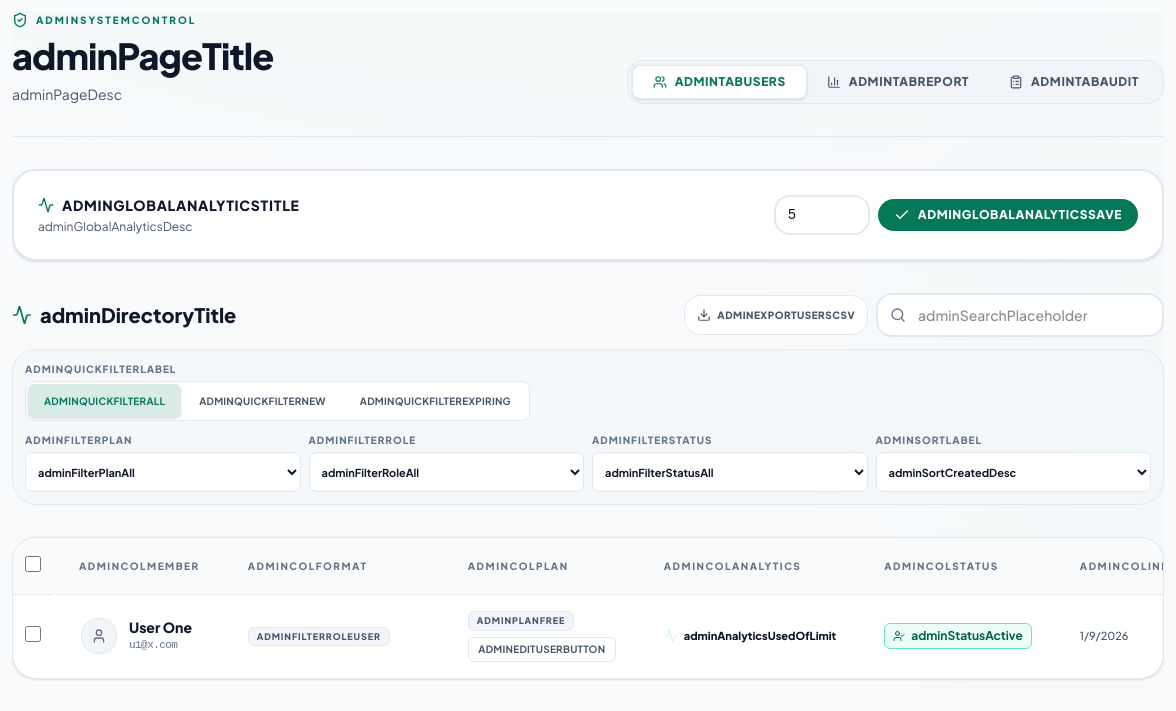
Scenario: AdminView › removes a single filter from its chip without touching the others
Select "adminFilterPlanPro" in the dropdown labelled "adminFilterPlan" at point(163, 472), box [25,452,300,492]
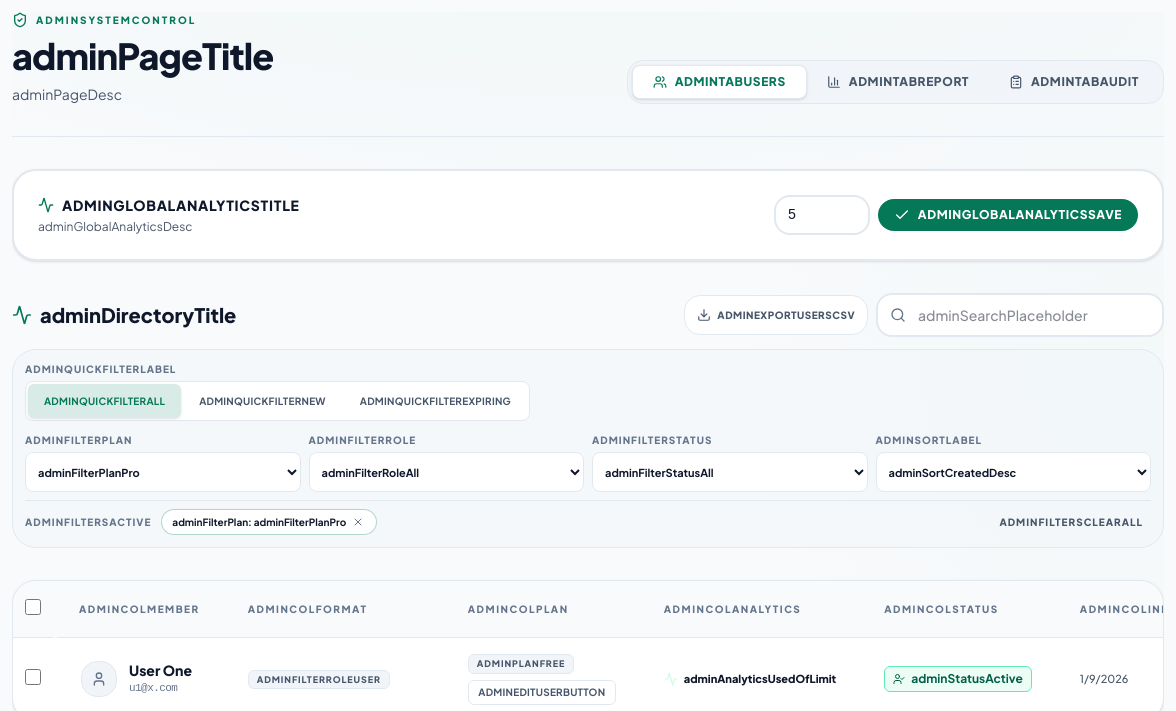
Select "adminFilterStatusLocked" in the dropdown labelled "adminFilterStatus" at point(730, 472), box [592,452,868,492]
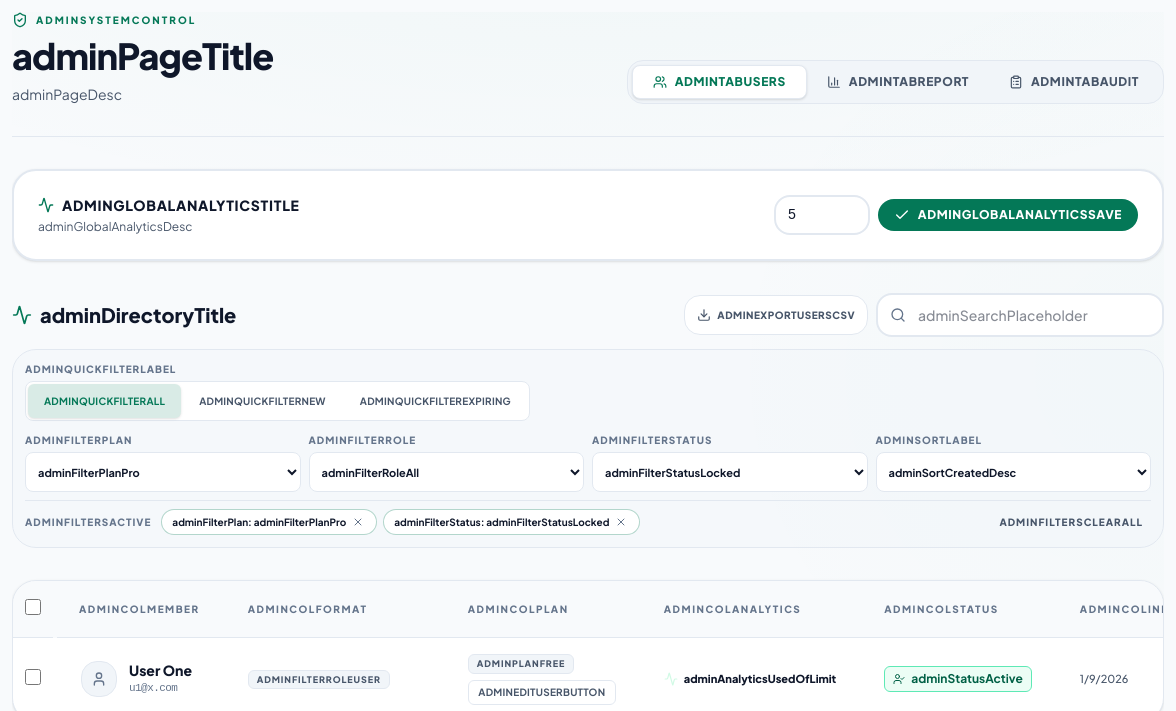
Click the button named "adminFiltersRemove" next to "adminFilterPlan: adminFilterPlanPro" at point(358, 522), box [350,514,366,530]
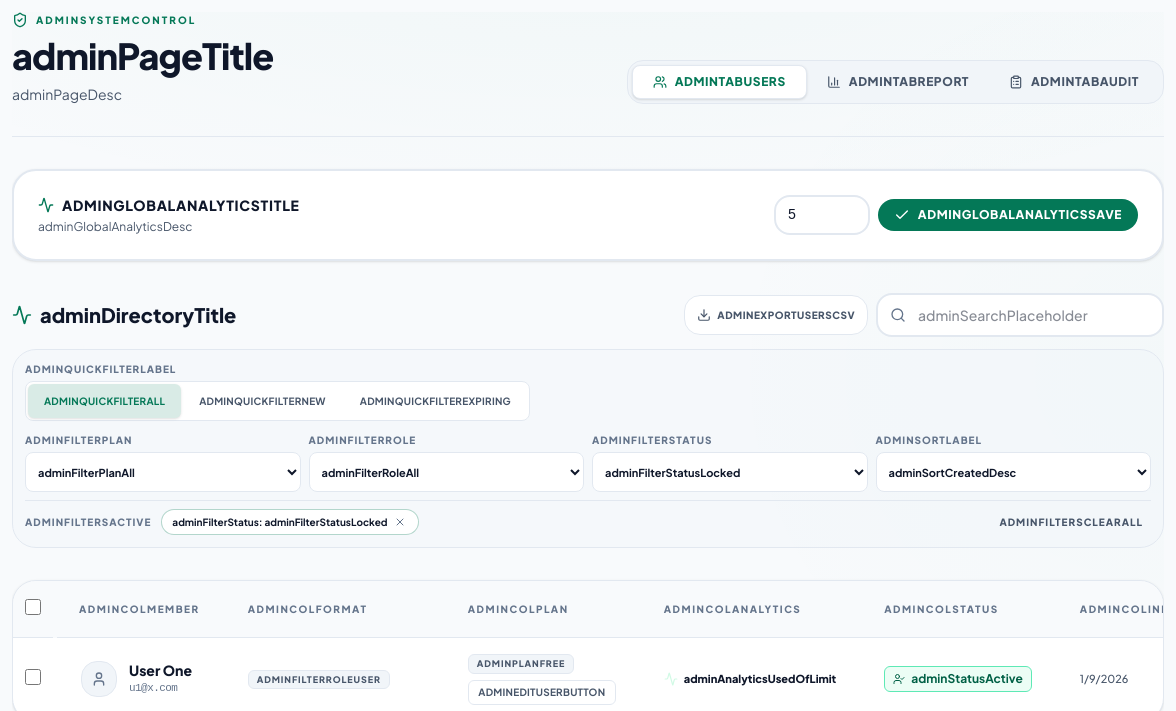
Expected: the text "adminFilterStatus: adminFilterStatusLocked" is shown, [161,509,418,535]
Expected: the text "adminFilterPlan: adminFilterPlanPro" is gone
